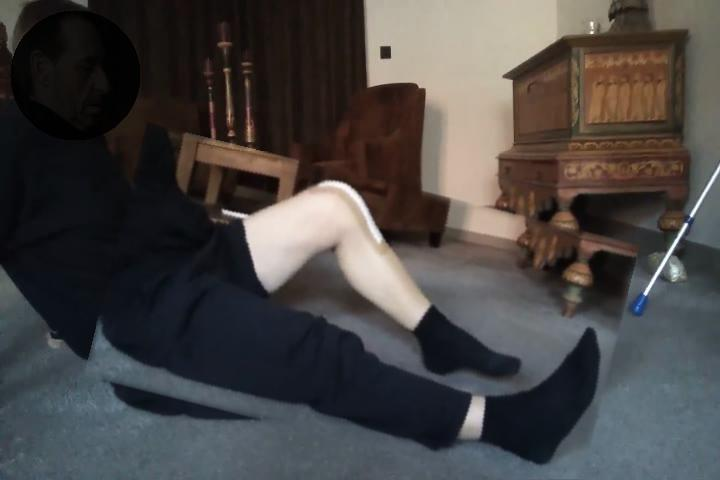lower_body: (97, 152, 629, 471)
